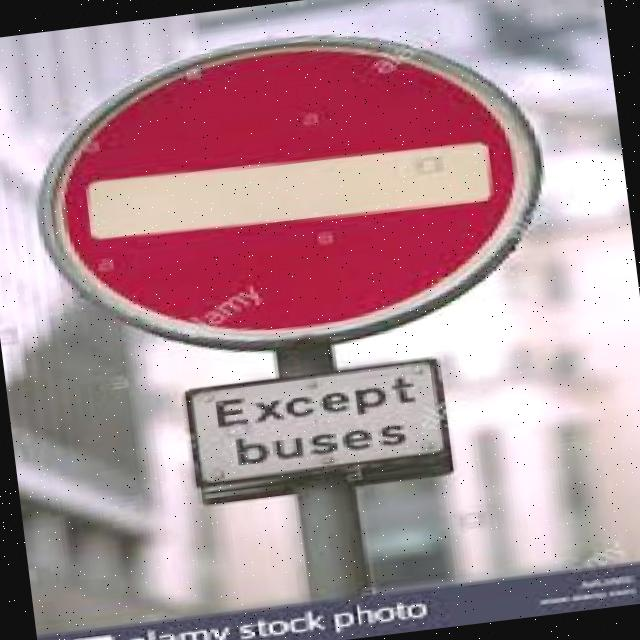Zakaz wjazdu: (36, 11, 538, 377)
